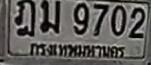0: (110, 4, 125, 35)
2: (128, 6, 144, 37)
7: (93, 3, 108, 35)
9: (73, 2, 88, 34)
A14: (14, 0, 35, 36)
A33: (39, 0, 59, 32)
BKK: (26, 41, 125, 60)
